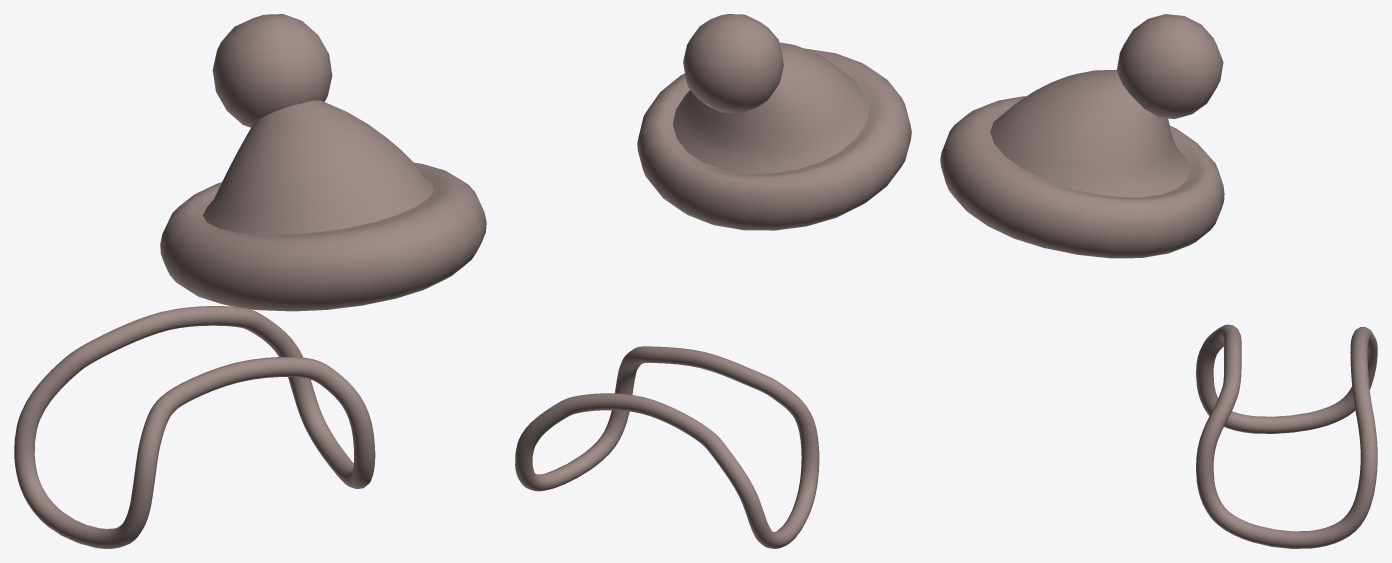
Rendered from SM_horse_hat.fbx.
3 renders of one model, left to right at view 1: azimuth 30°, elevation 25°; view 2: azimuth 150°, elevation 25°; view 3: azimuth 270°, elevation 25°, orthographic. The views are drawn at different scales.
Visible parts, largest first — view 1: SM_horse_hat; view 2: SM_horse_hat; view 3: SM_horse_hat.
Boxes of the visible parts, <box> form: SM_horse_hat: <box>14,14,486,548</box>; SM_horse_hat: <box>515,14,911,548</box>; SM_horse_hat: <box>940,14,1377,548</box>.
Bounding box in the file's own units: 88.09 × 151 × 127.
